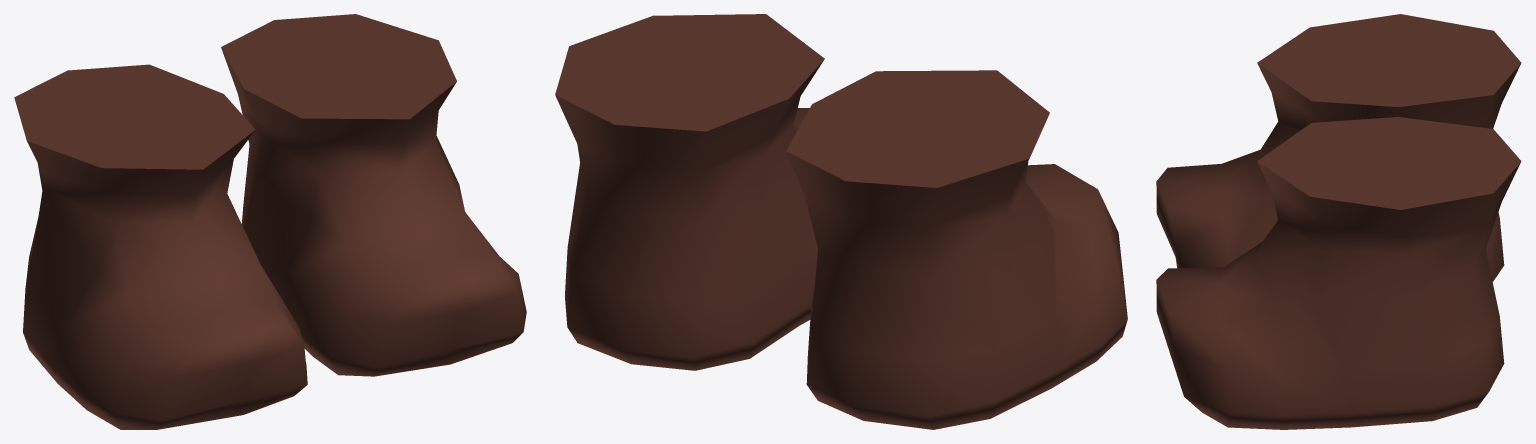
The model's file is Feet_2.fbx.
The picture shows the model from 3 angles, left to right: view 1: azimuth 30°, elevation 25°; view 2: azimuth 150°, elevation 25°; view 3: azimuth 270°, elevation 25°; orthographic projection. The views are drawn at different scales.
Visible parts, largest first — view 1: Feet_2; view 2: Feet_2; view 3: Feet_2.
Boxes of the visible parts, x1,y1,x2,y2 form: Feet_2: [14, 14, 526, 429]; Feet_2: [555, 14, 1127, 429]; Feet_2: [1156, 14, 1521, 429].
Size of the model in its own units: 42.53 by 21.61 by 32.51.
